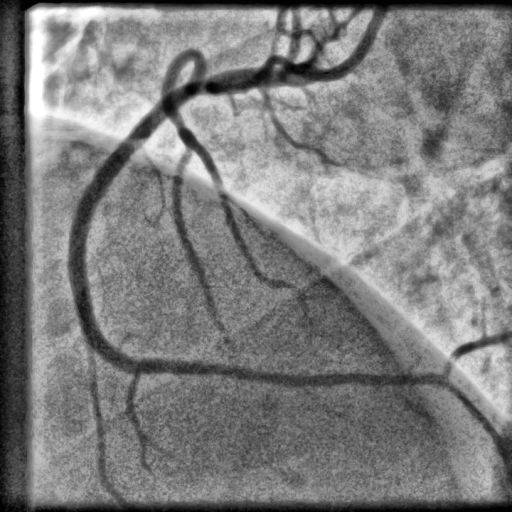pborca: (443, 332, 512, 379)
pda: (438, 379, 510, 475)
rca: (69, 64, 450, 387)
